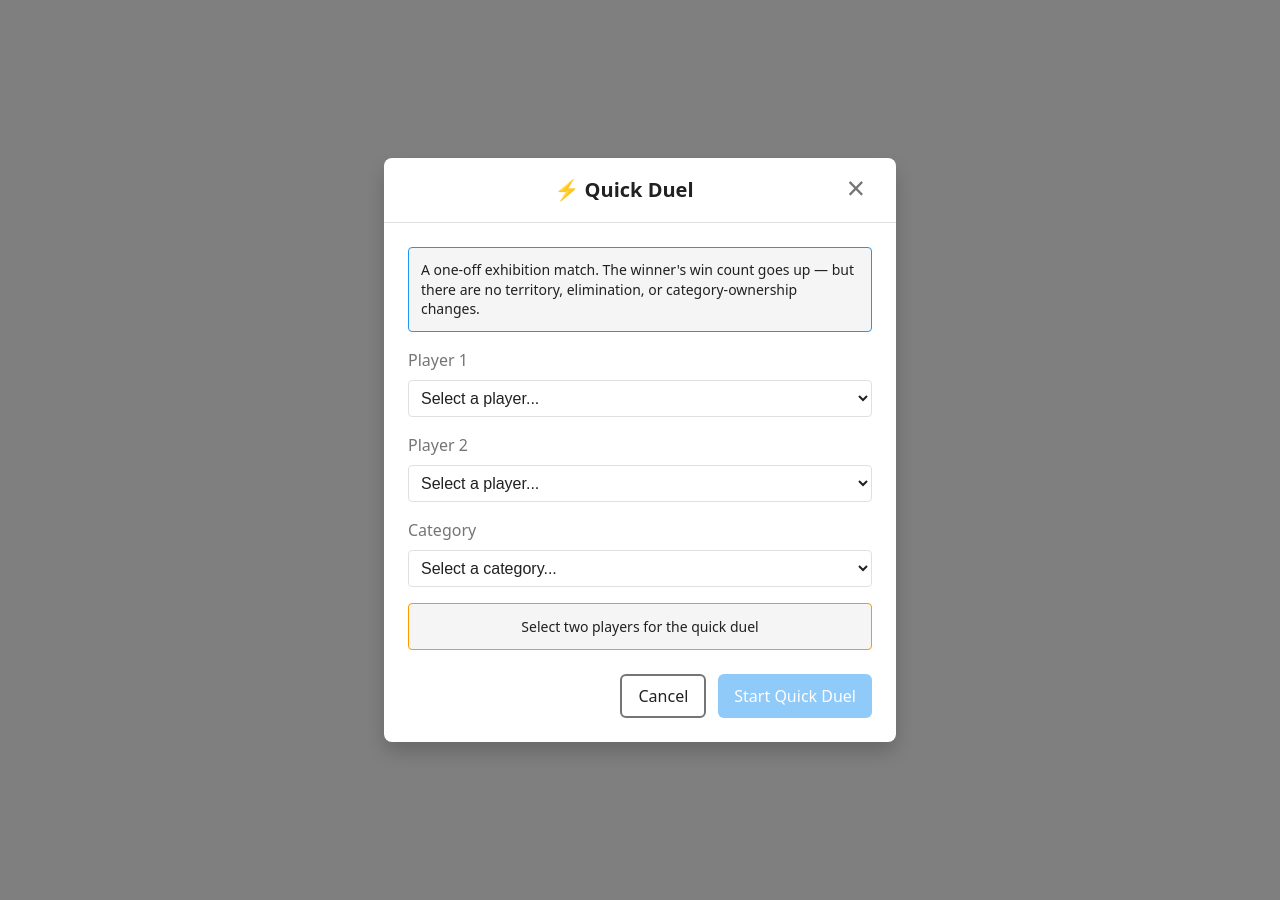
Test: QuickDuelSetup › disables Start until two distinct players and a non-empty category are chosen
Expected: the button "Start Quick Duel" is disabled, left=718, top=674, right=872, bottom=718
Select "Alice" in the dropdown labelled "Player 1" at (640, 398), box left=408, top=380, right=872, bottom=417
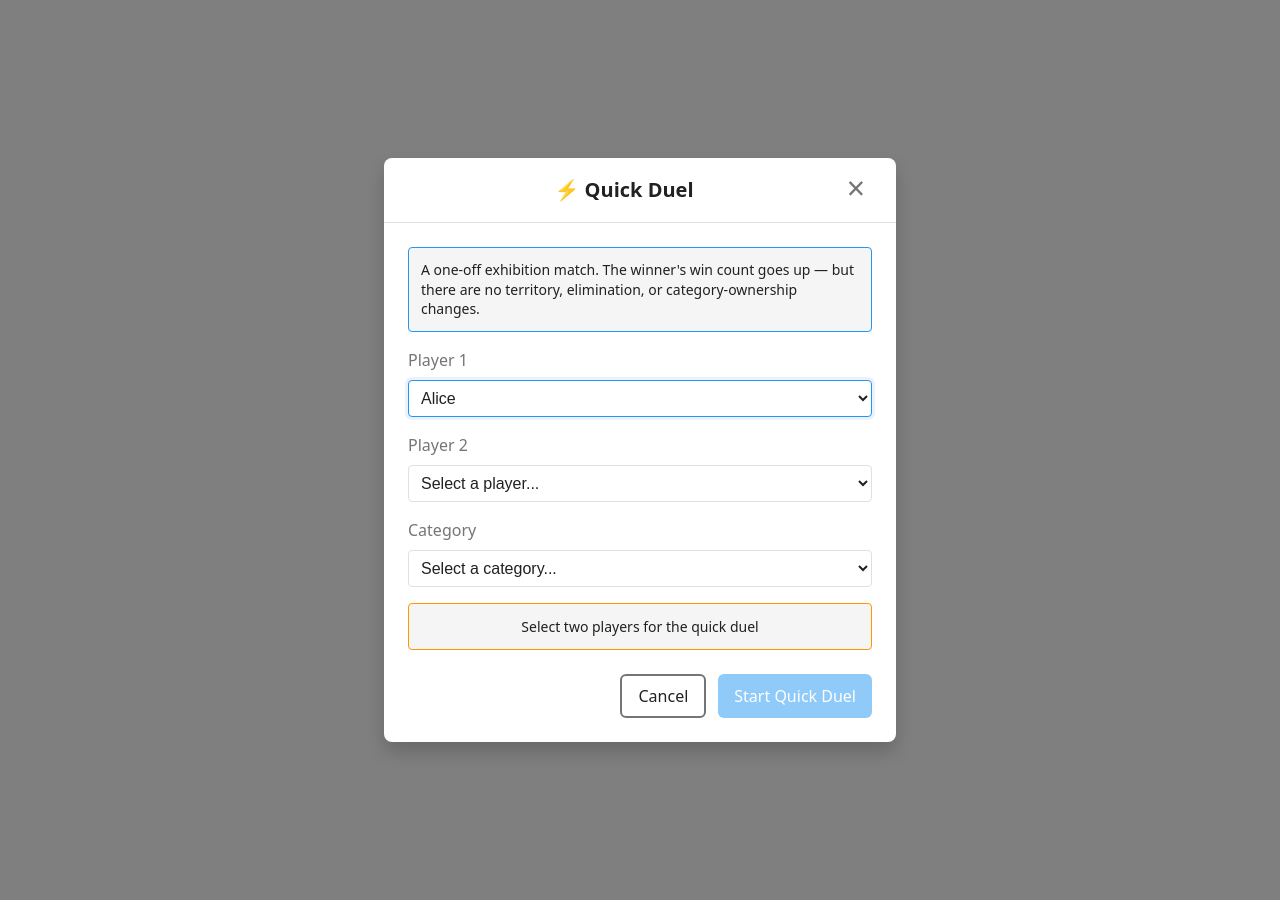
Select "Bob" in the dropdown labelled "Player 2" at (640, 483), box left=408, top=465, right=872, bottom=502
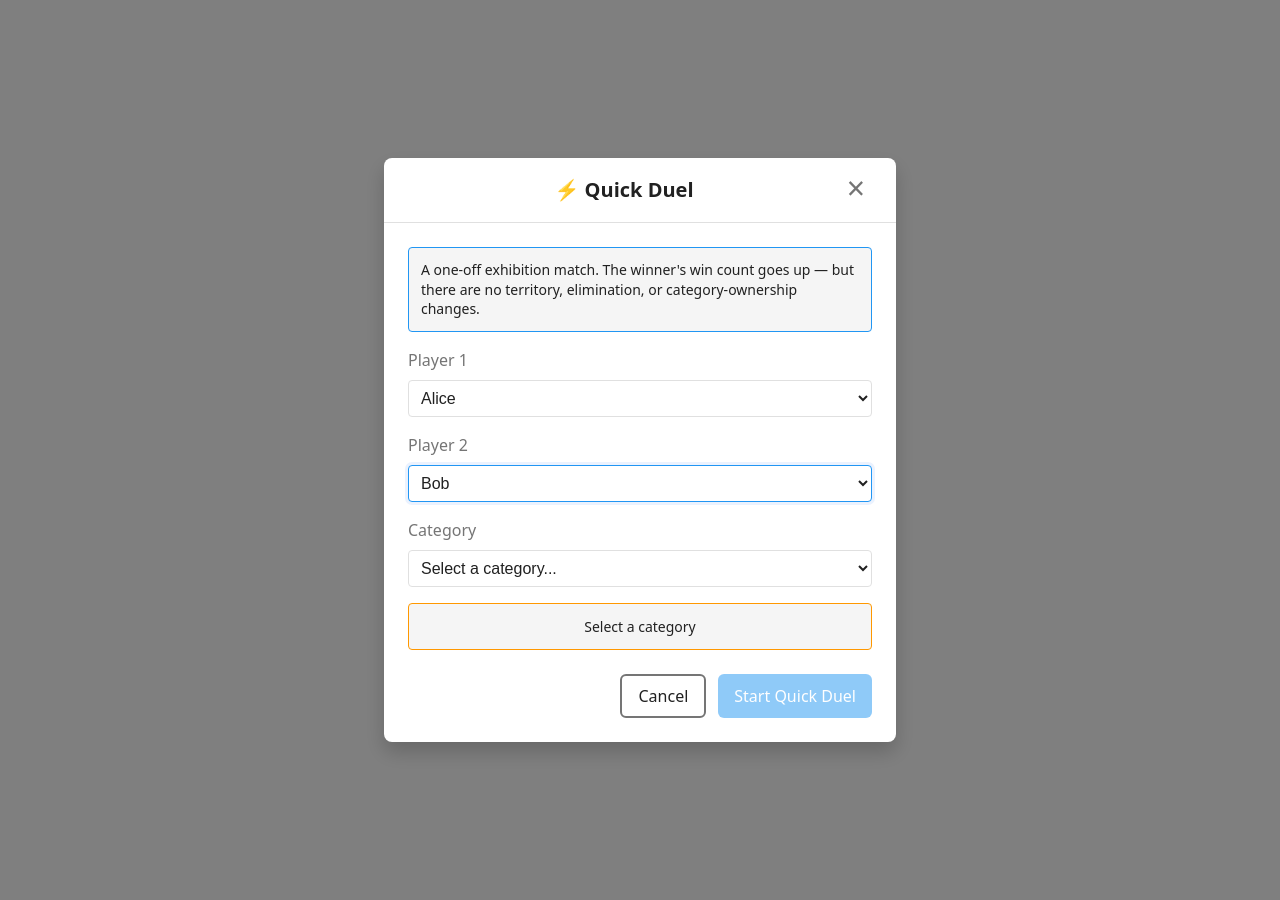
Select "Math (1 slides)" in the dropdown labelled "Category" at (640, 568), box left=408, top=550, right=872, bottom=587
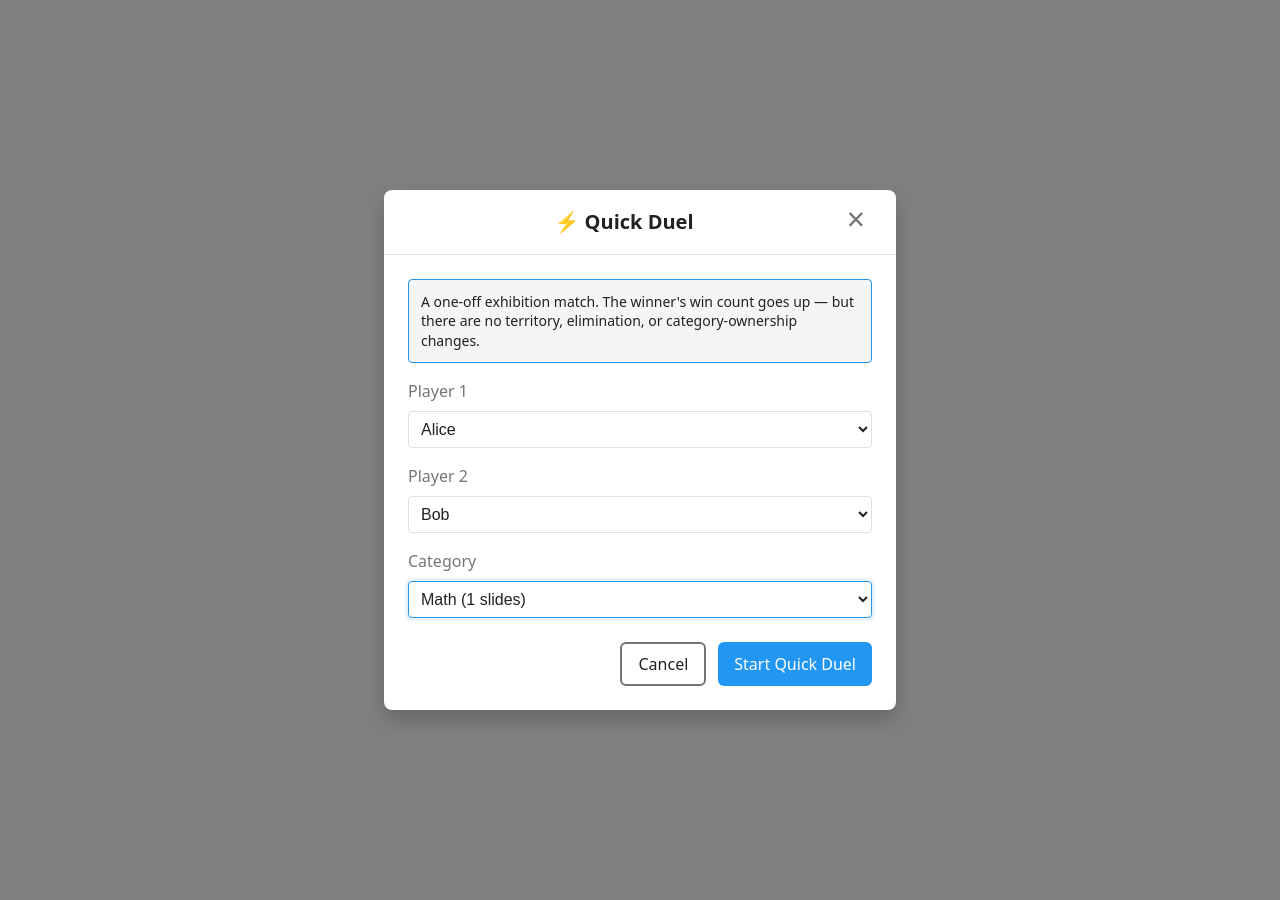
Expected: the button "Start Quick Duel" is enabled, left=718, top=642, right=872, bottom=686
